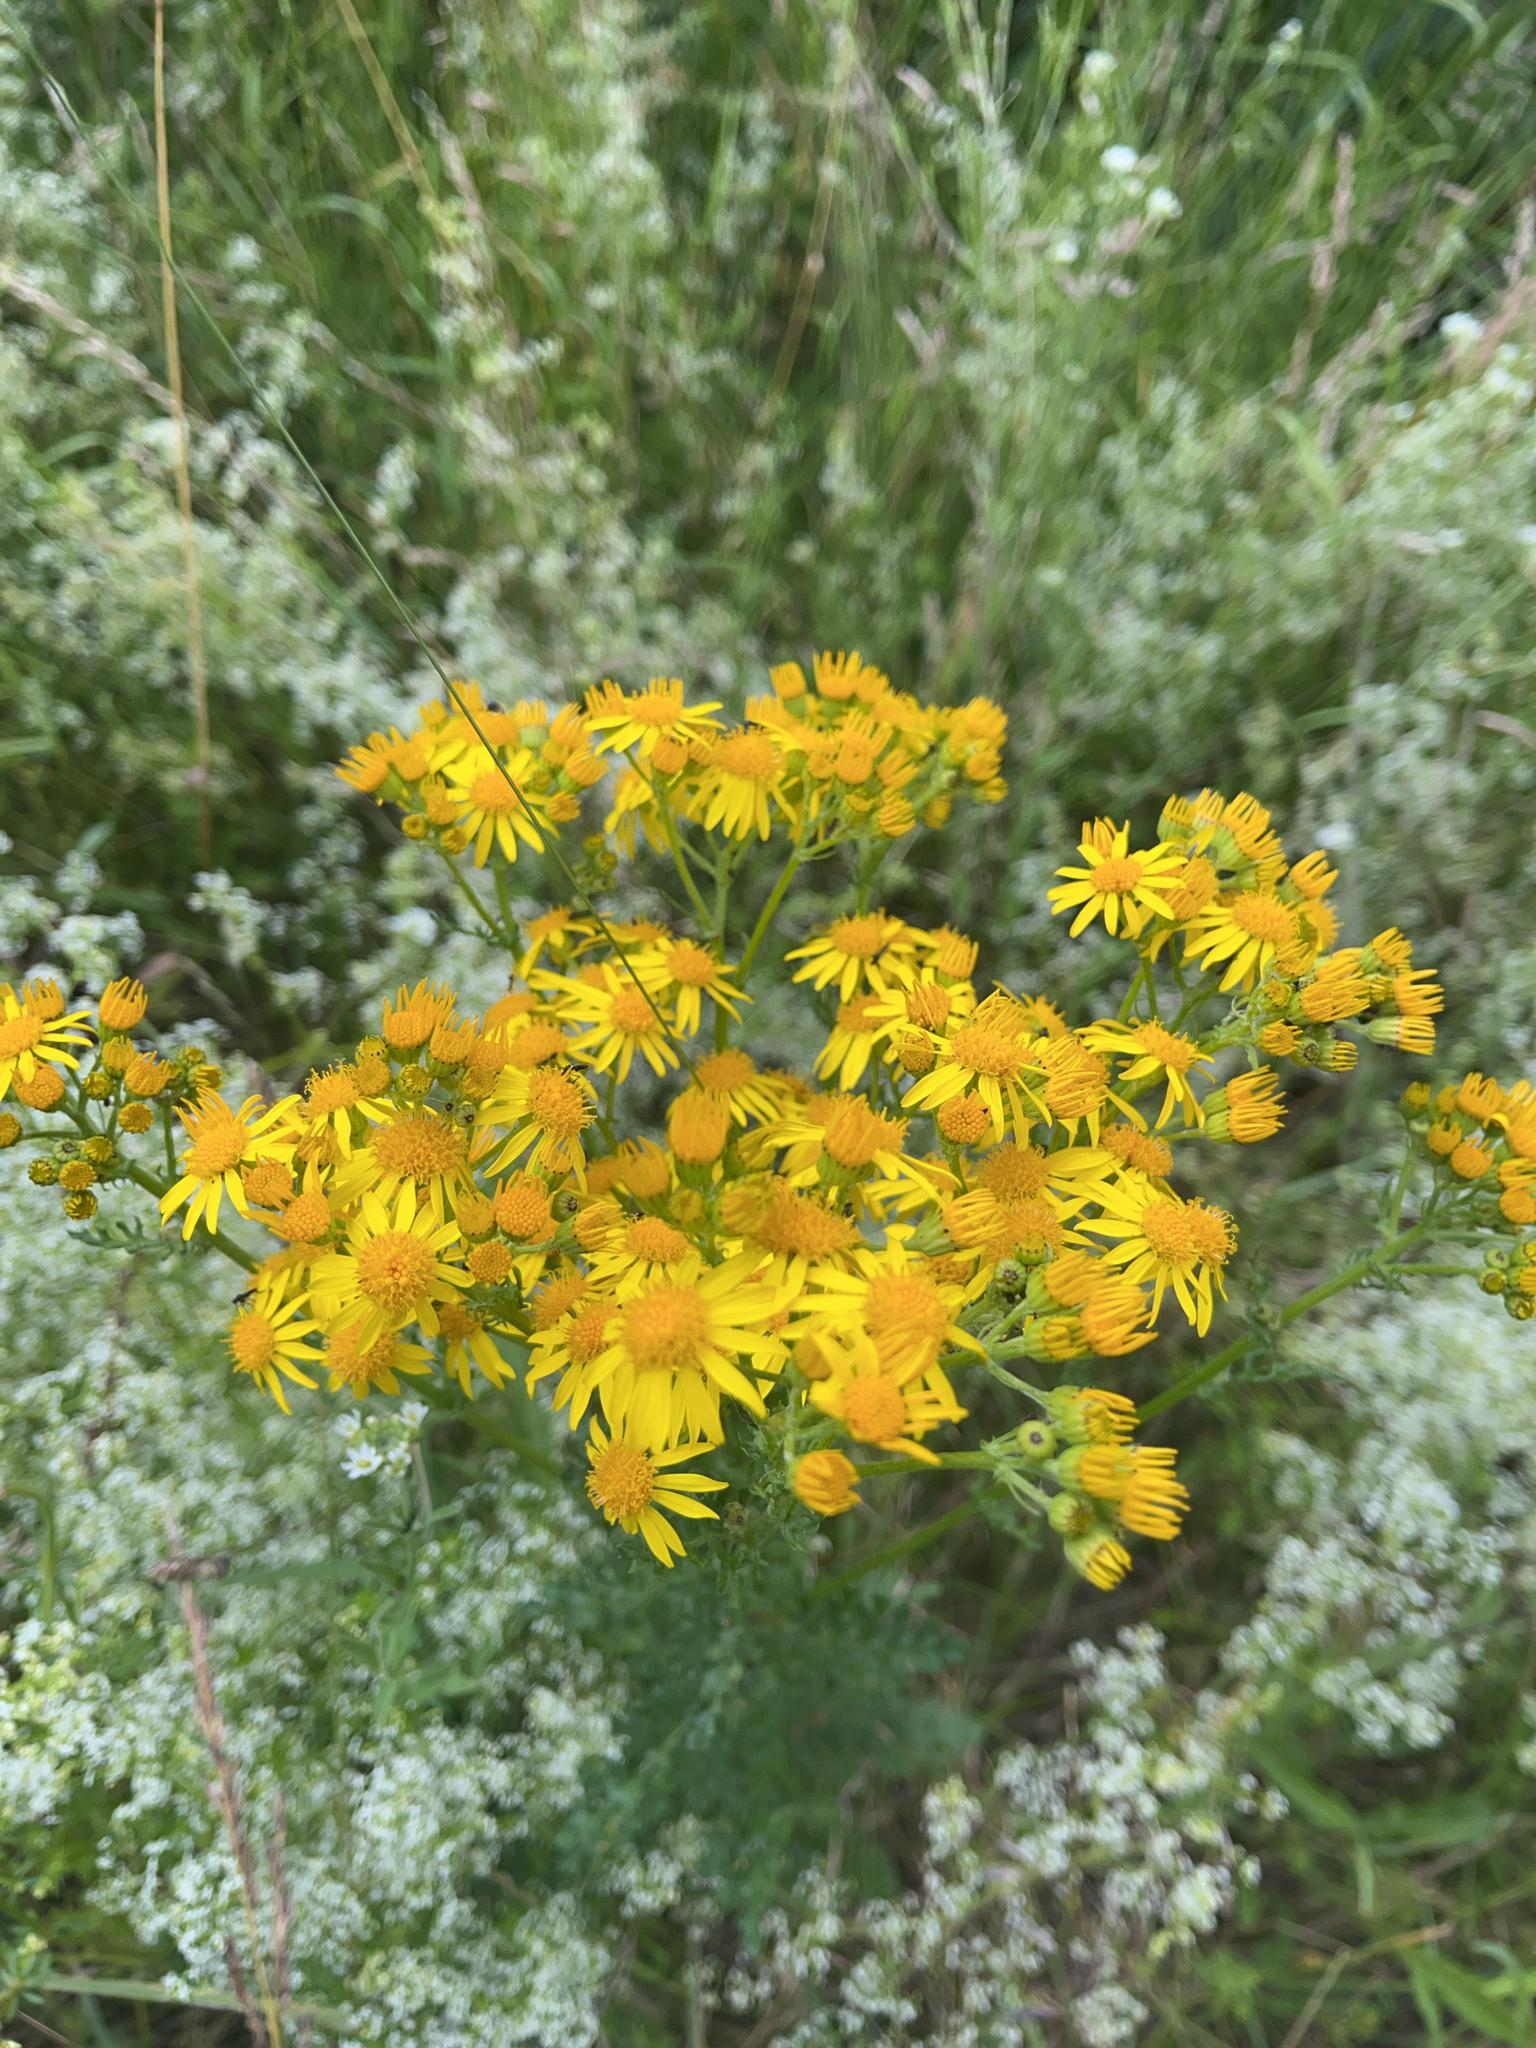Jacobaea vulgaris: (0, 613, 1536, 1643)
